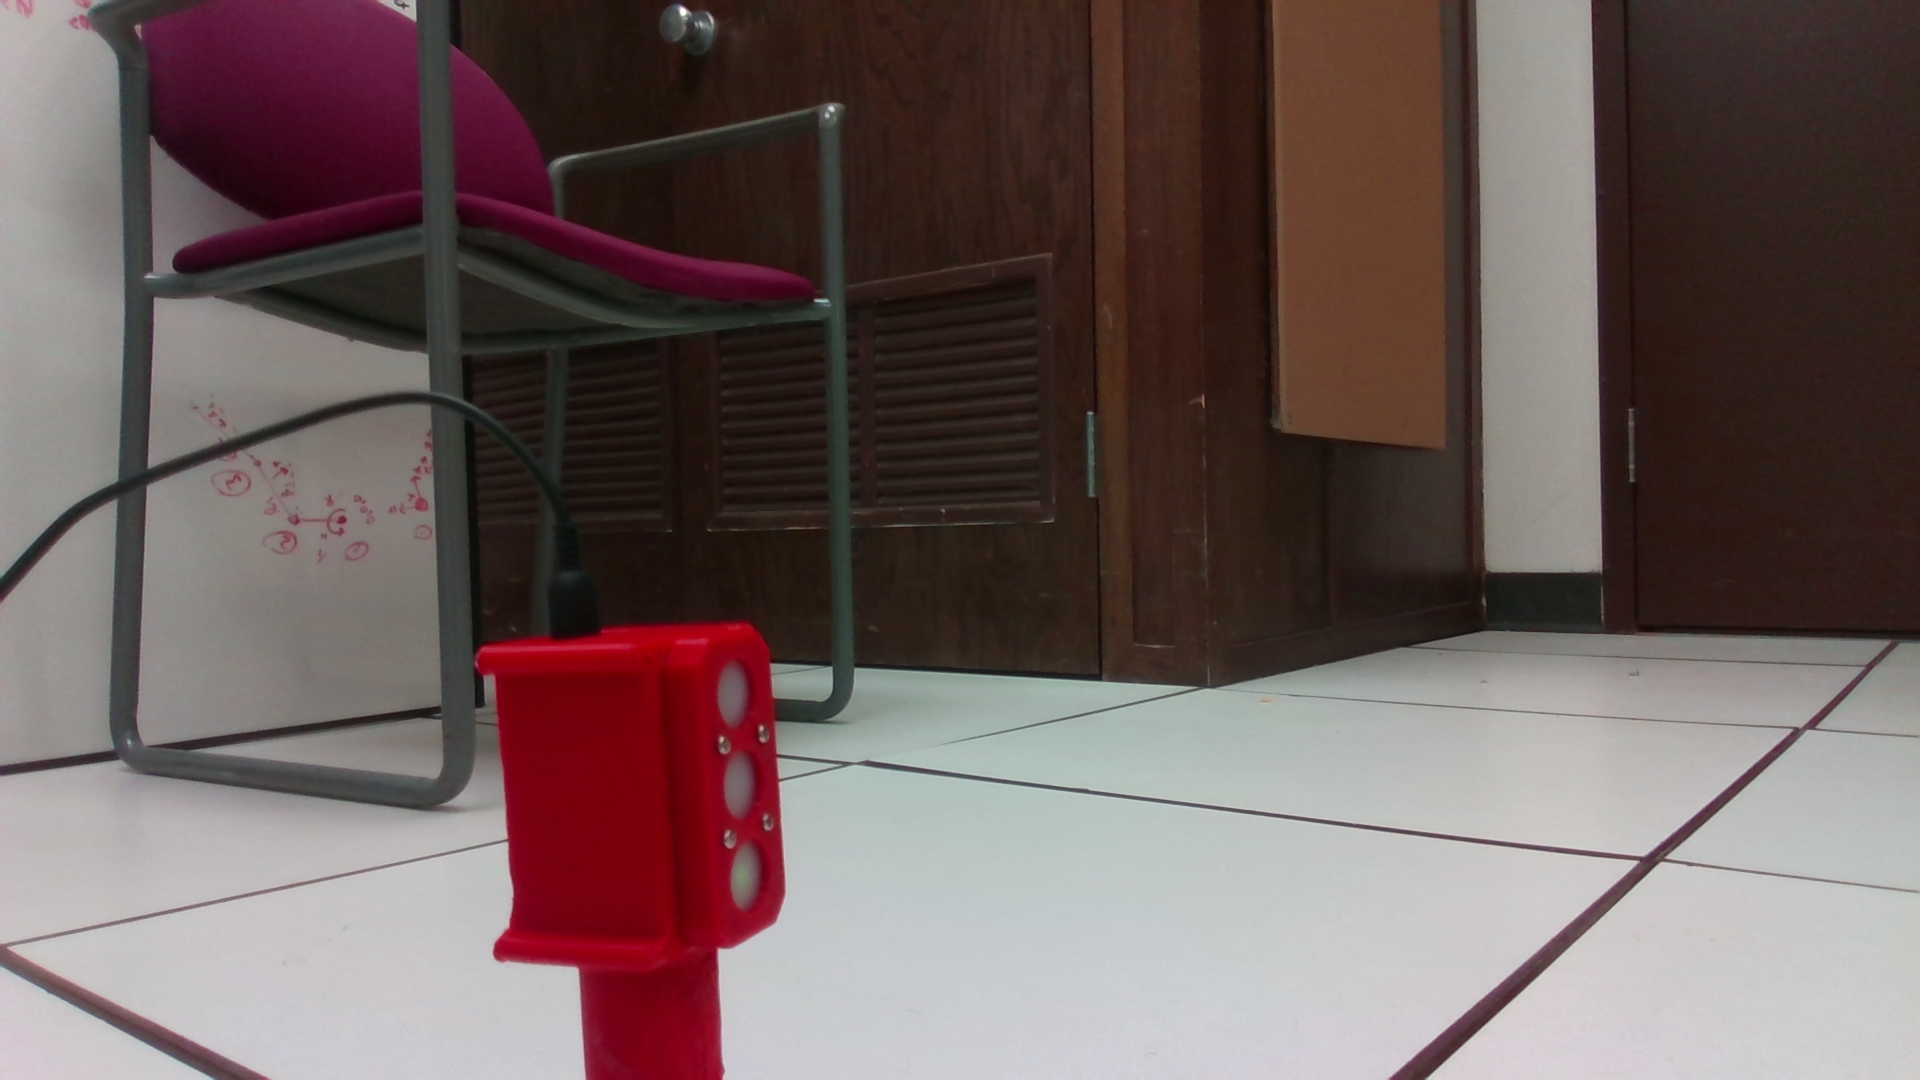stoplight: (462, 622, 794, 1079)
